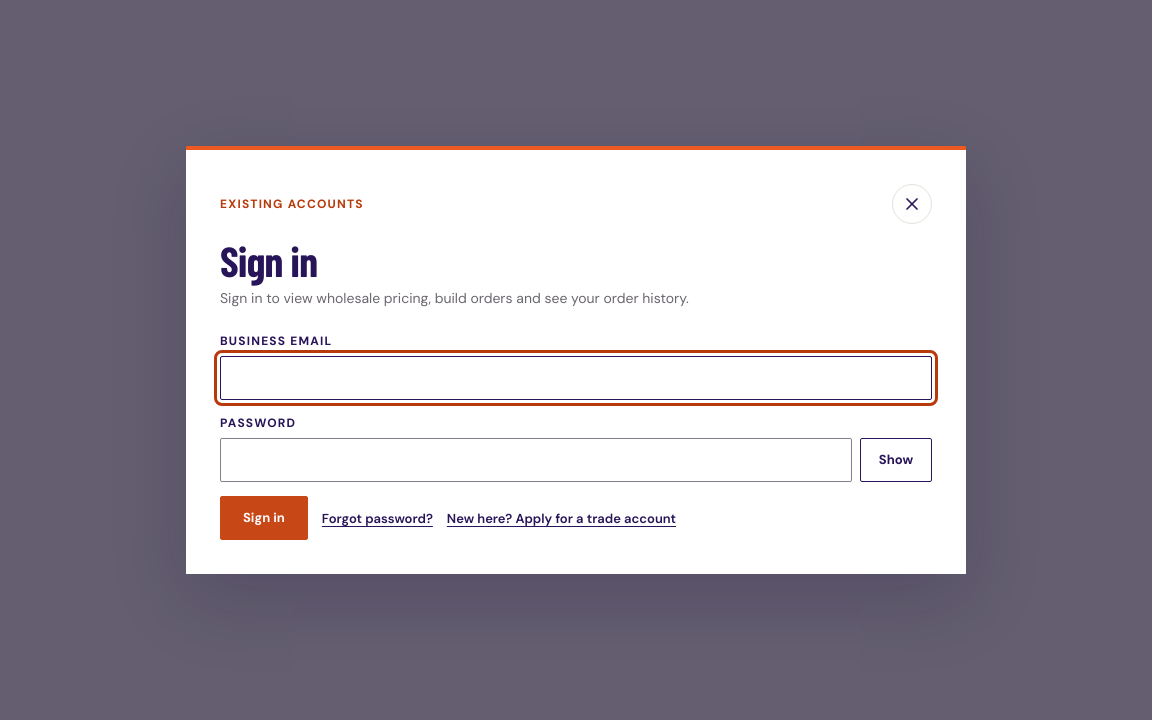
AuthModal on a slow or missing connection › says a sign-in is taking too long, and the form can be sent again
Type "buyer@example.test" into the field labelled "Business email" at (576, 378), box 220,356 -> 932,400
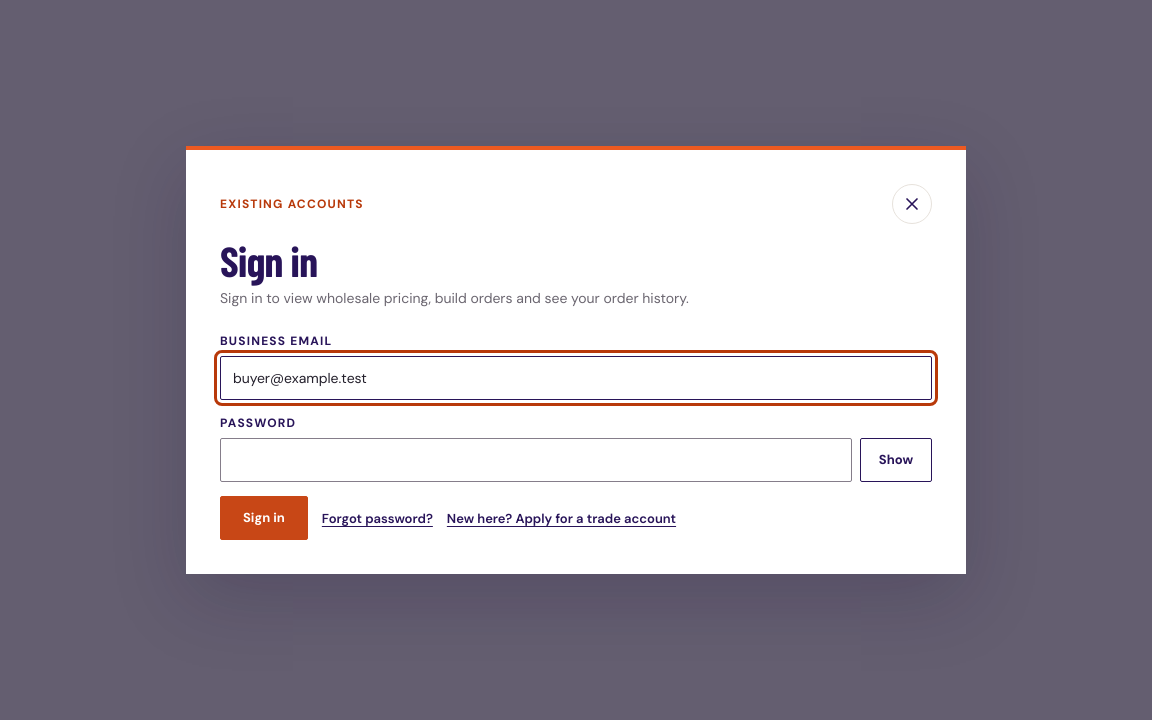
Type "test-password-1" into the password field labelled "Password" at (536, 460), box 220,438 -> 852,482
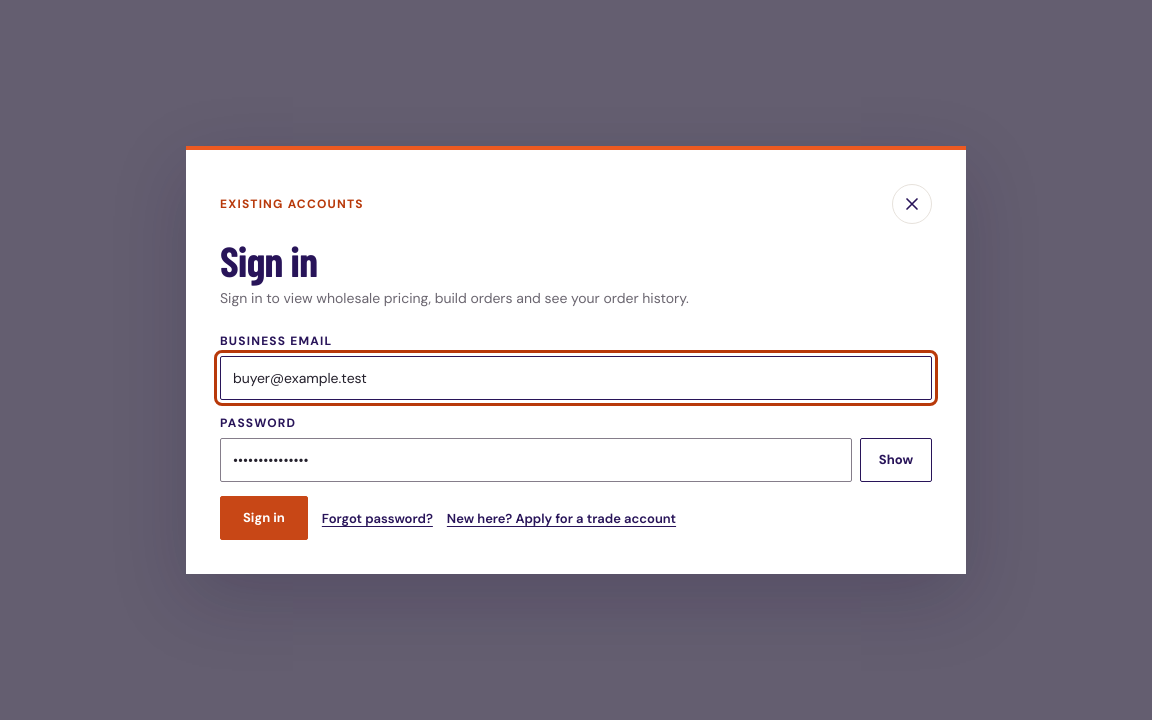
Click the button "Sign in" at (264, 518), box 220,496 -> 308,540
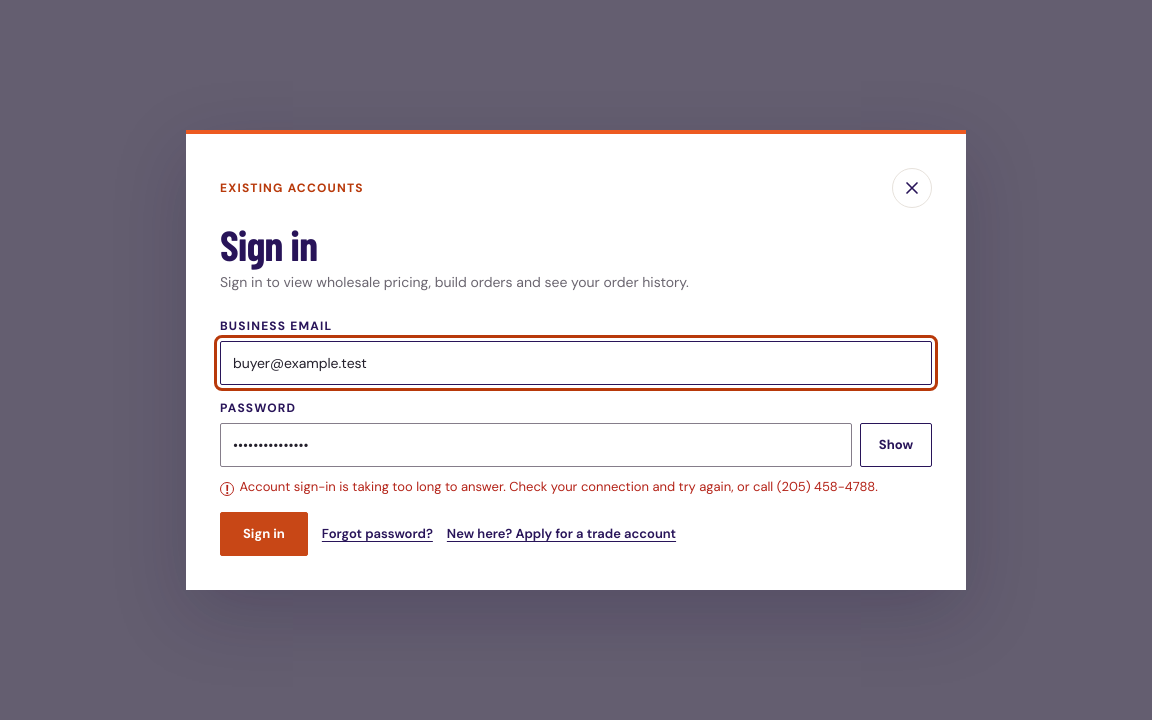
Expected: the button "Sign in" is enabled, 220,512 -> 308,556
Expected: the message shows "is taking too long to answer. Check your connection and try again, or call (205)", 240,478 -> 878,495
